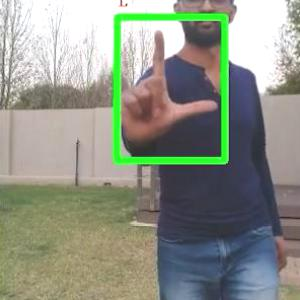land_hand: (115, 23, 220, 147)
